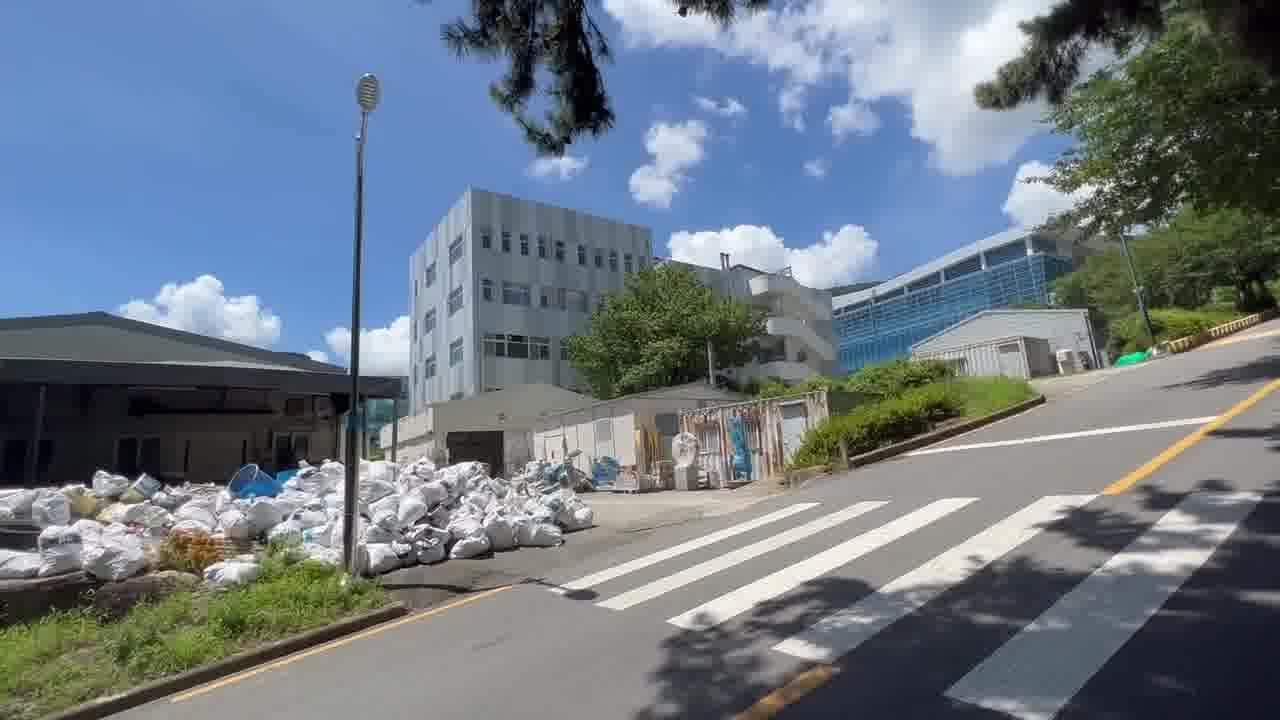building: (398, 192, 582, 419)
